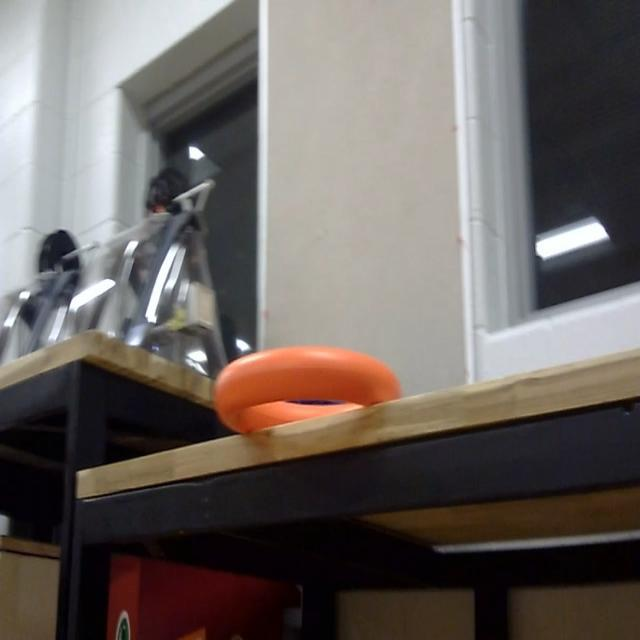note: (214, 340, 402, 434)
